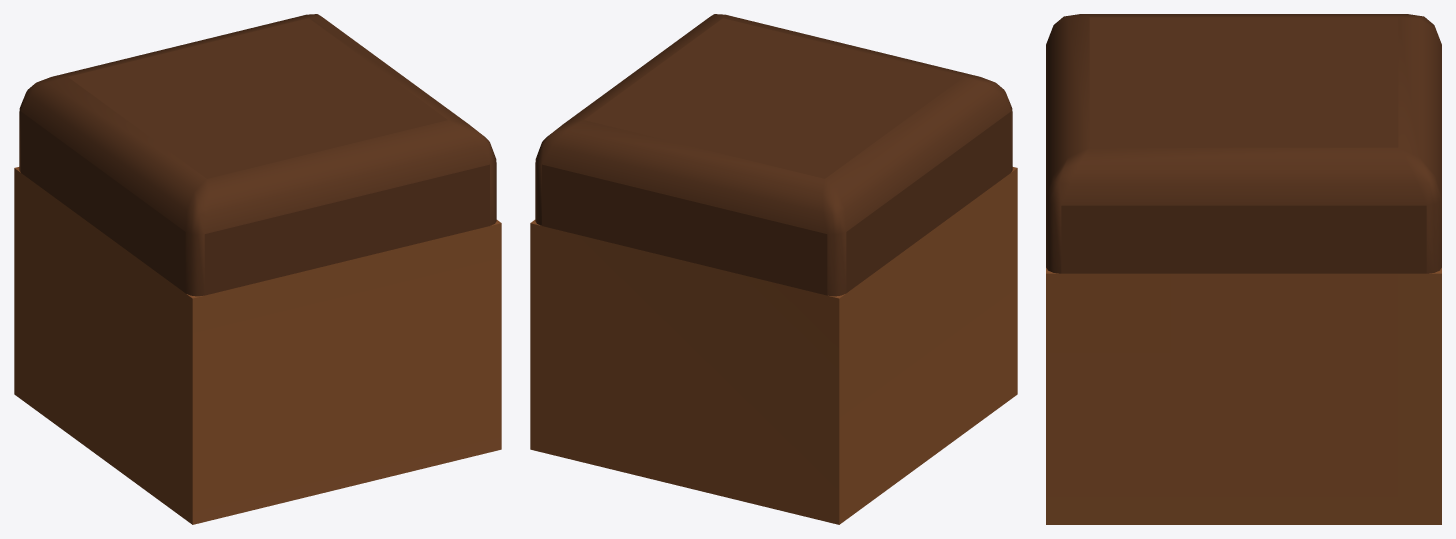
File: Terrain__dirt.glb
3 renders of one model, left to right at view 1: azimuth 30°, elevation 25°; view 2: azimuth 150°, elevation 25°; view 3: azimuth 270°, elevation 25°, orthographic. The views are drawn at different scales.
Visible parts, largest first — view 1: dirt_mesh; view 2: dirt_mesh; view 3: dirt_mesh.
Part boxes in pixels (left/top/right/bottom): dirt_mesh: left=14, top=14, right=501, bottom=524; dirt_mesh: left=530, top=14, right=1017, bottom=524; dirt_mesh: left=1046, top=14, right=1441, bottom=524.
Bounding box in the file's own units: 0.5 × 0.5 × 0.5.
